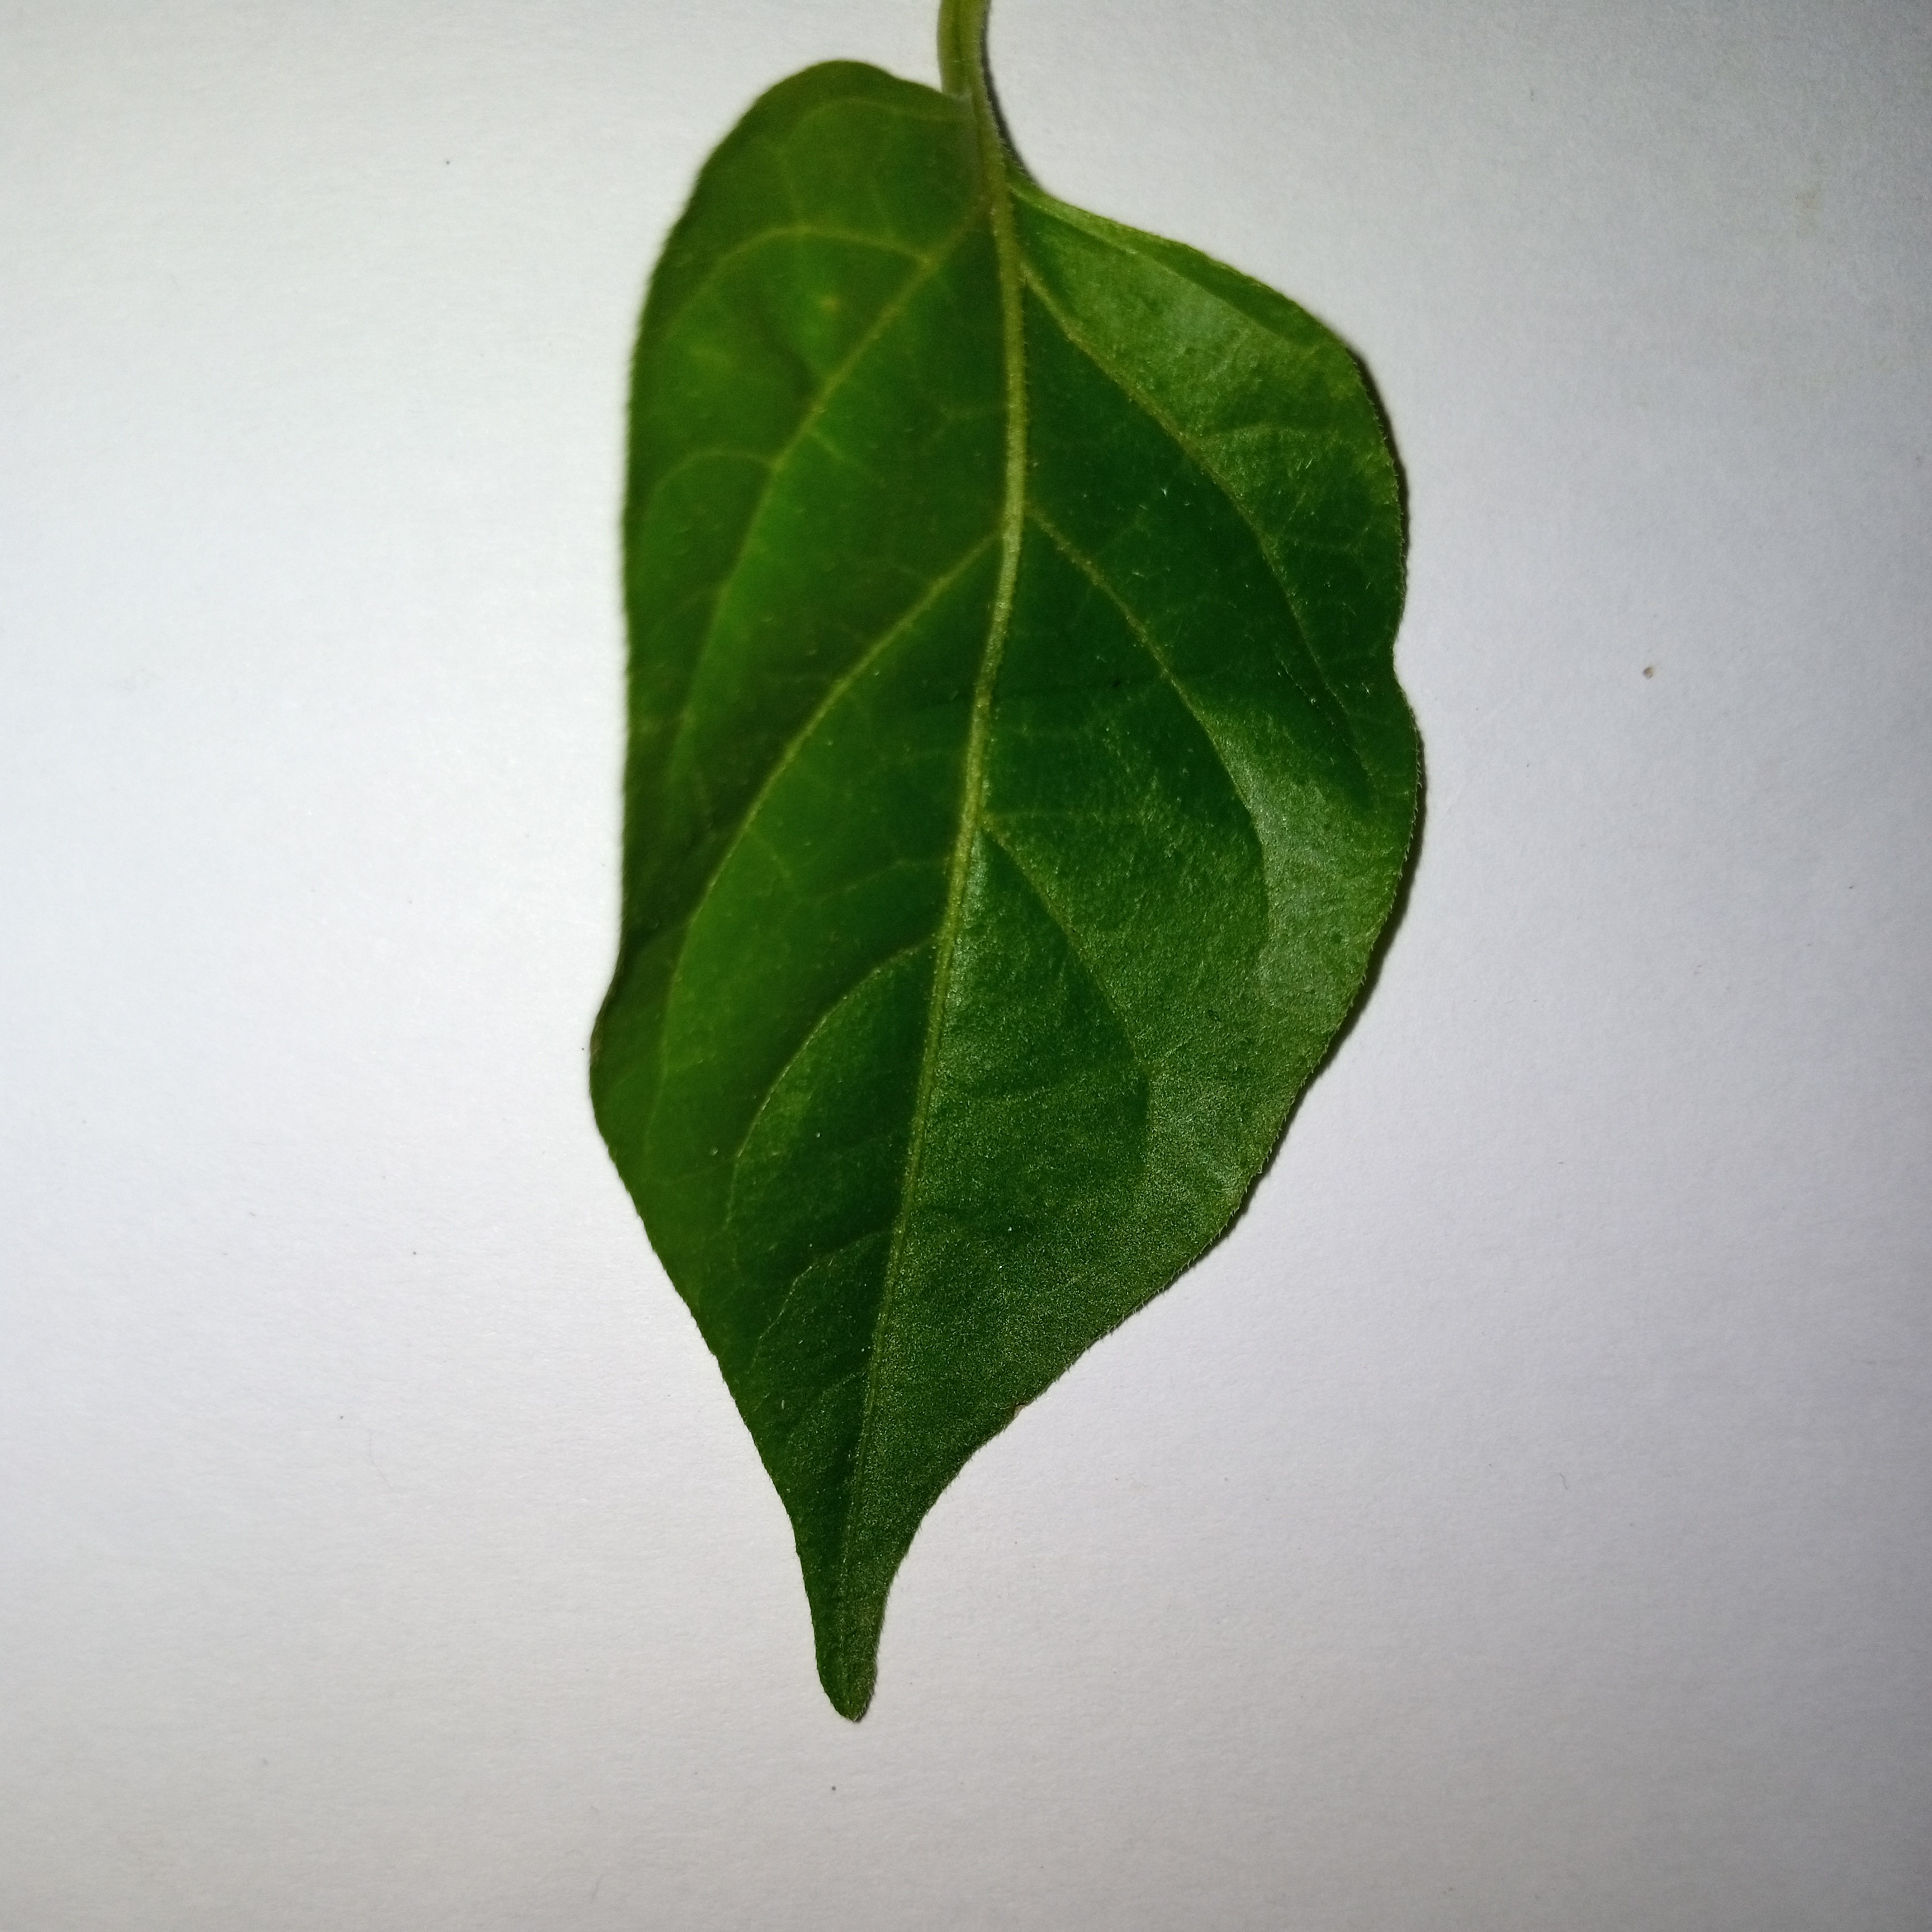Leaf: (382, 16, 1499, 1798)
